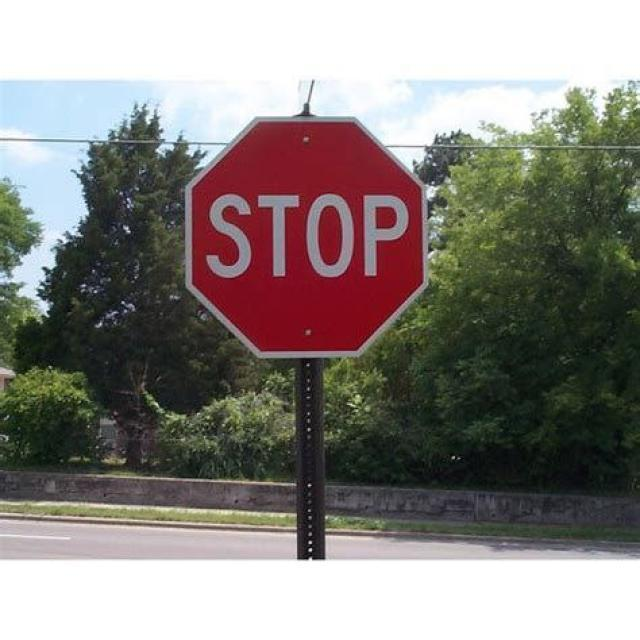stop: (183, 113, 432, 362)
